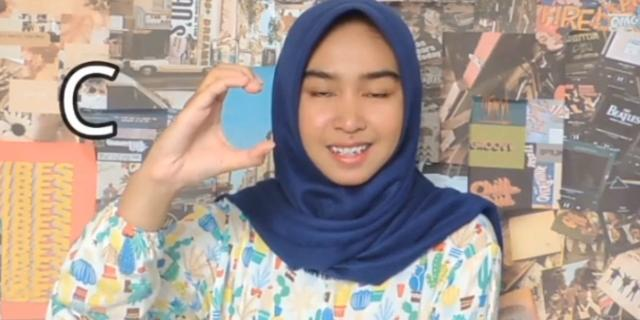C: (148, 62, 276, 186)
